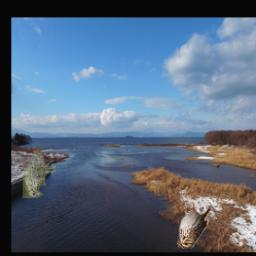Sparrow: (178, 203, 214, 249), (23, 150, 56, 198)
